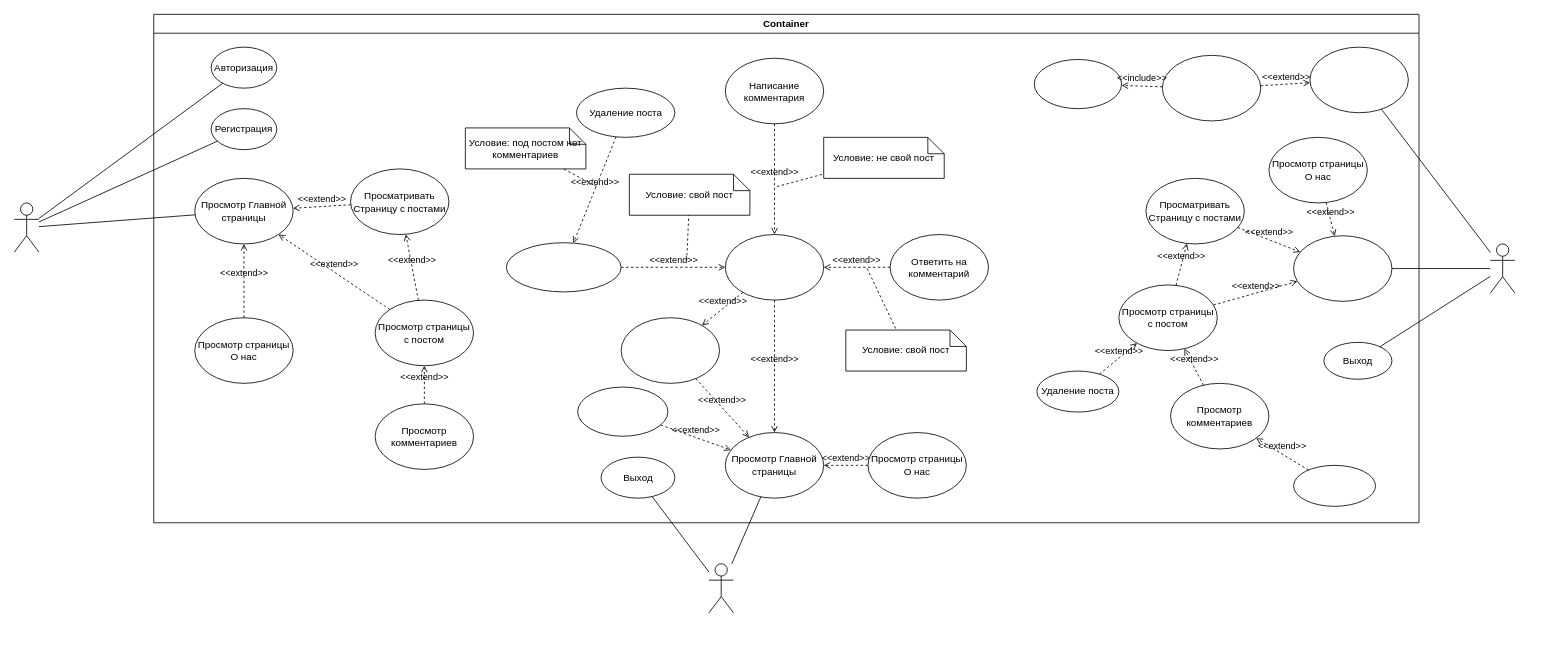
Image size: 1552x645. Some labels were removed from this diagram. The shapes that lost their labels are listed below. From the top down, each one's centre as x and y in pixels, then its label:
At [1077,84]: "Указание времени блокировки".
At [1211,88]: "Блокировка входа пользователю".
At [1358,79]: "Просмотр списка пользователя".
At [26,227]: "Гость".
At [563,267]: "Редактирование поста".
At [774,267]: "Просмотр поста".
At [1342,268]: "Просматривать Главную страницу".
At [1502,268]: "Администратор".
At [670,350]: "Просмотр Страницы с постами".
At [622,411]: "Создание поста".
At [1334,485]: "Удаление комментария".
At [720,588]: "Автор".
